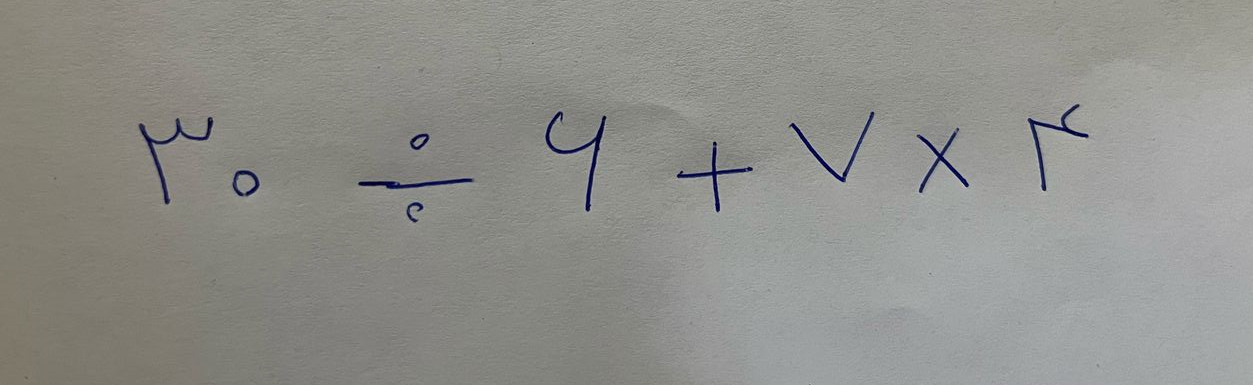character: (362, 127, 471, 230), (135, 111, 212, 217), (547, 100, 602, 219), (789, 107, 875, 182), (676, 138, 752, 213), (914, 124, 967, 193), (1030, 105, 1077, 180), (232, 159, 258, 203)
